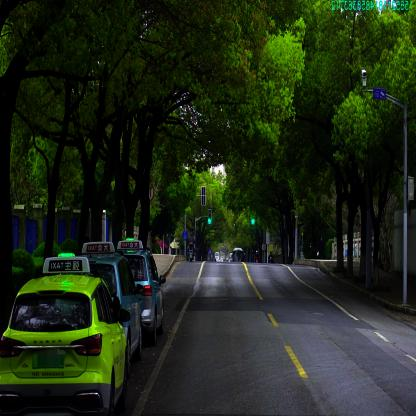traffic-light: (208, 209, 211, 224), (252, 216, 255, 224)
